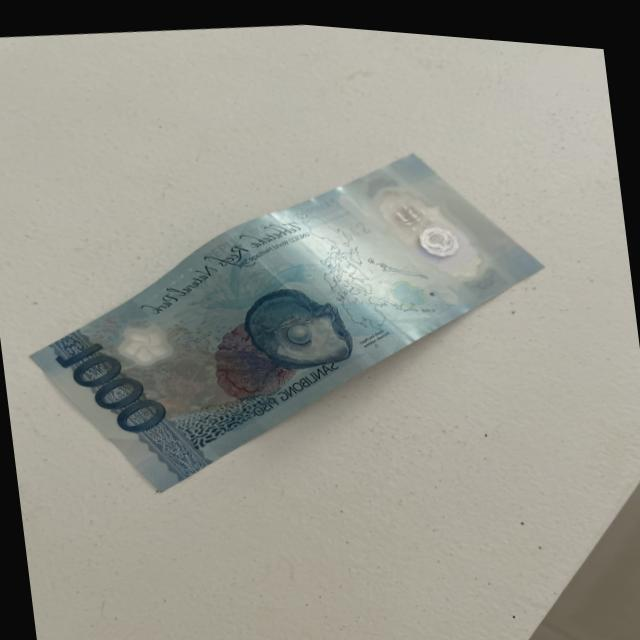clear_window: (327, 148, 521, 321)
sampaguita: (111, 303, 185, 375)
value: (44, 325, 185, 455)
